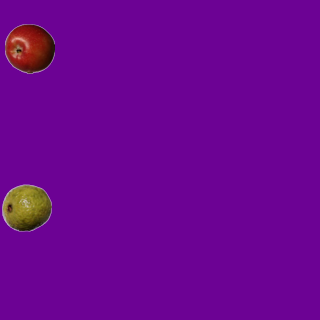Apple Braeburn: (4, 23, 54, 73)
Guava: (1, 182, 51, 232)
